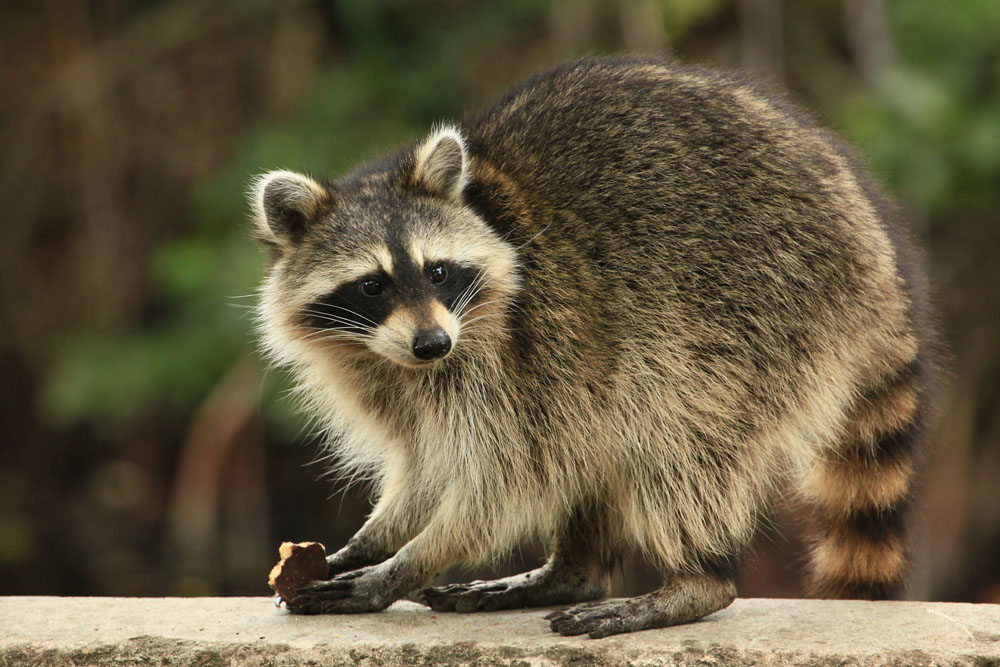raccoon: (231, 51, 963, 648)
